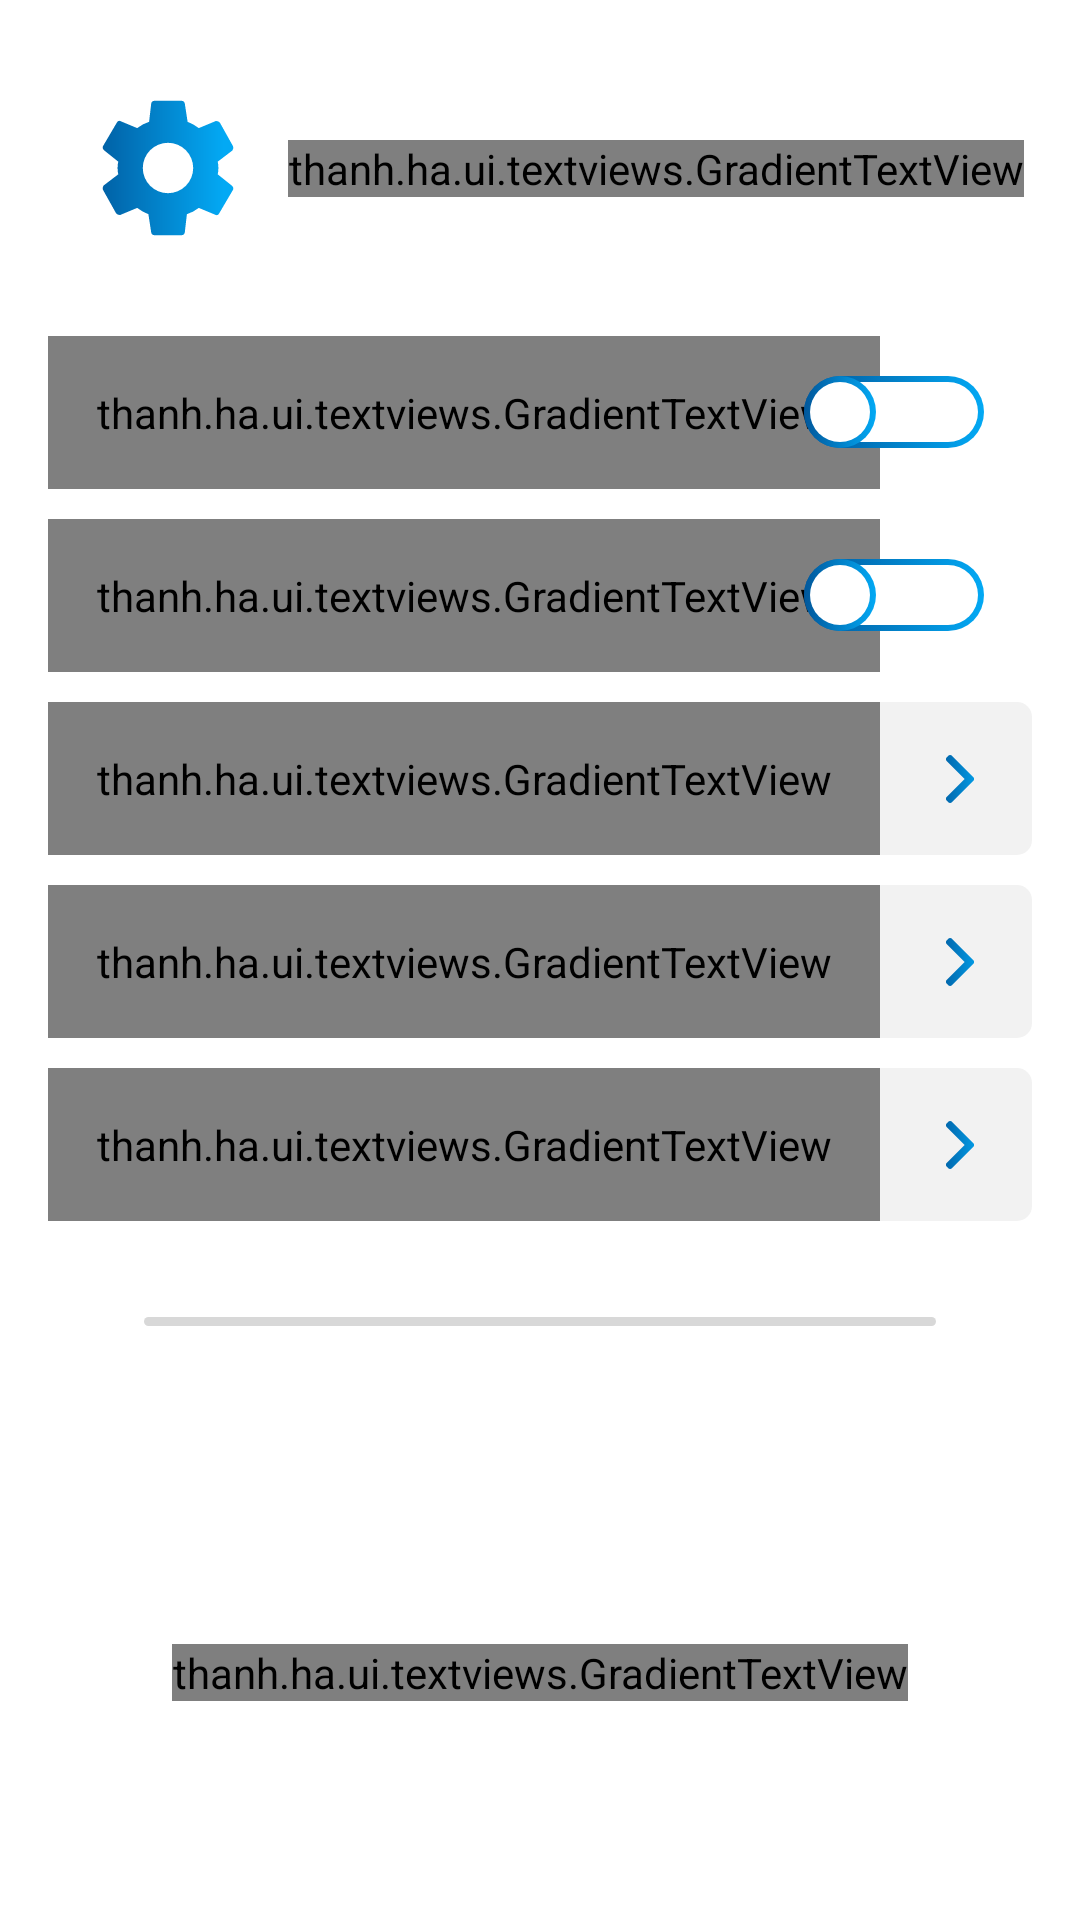

Screen size 1080 × 1920. Icon name, then its box in pixels as (x1, y1, x2, y2):
right arrow: (946, 755, 974, 803), (946, 938, 974, 986), (946, 1121, 974, 1169)
settings colorful: (102, 100, 234, 236)
